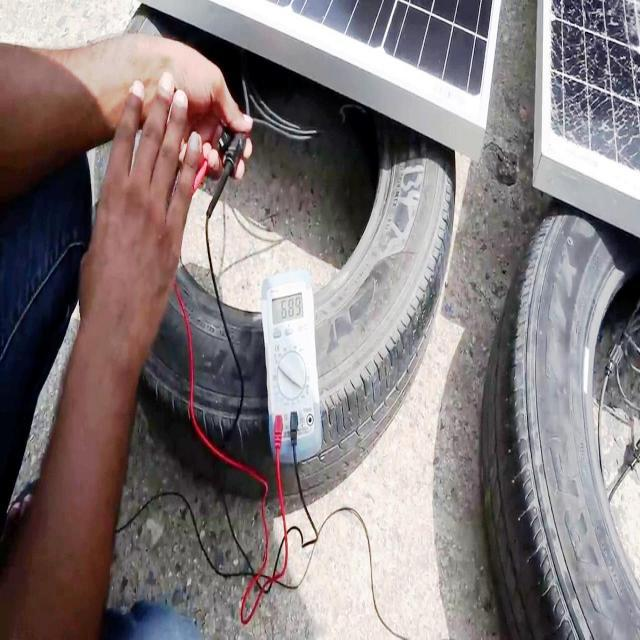faulty: (546, 1, 640, 172)
no faulty: (272, 0, 498, 125)
